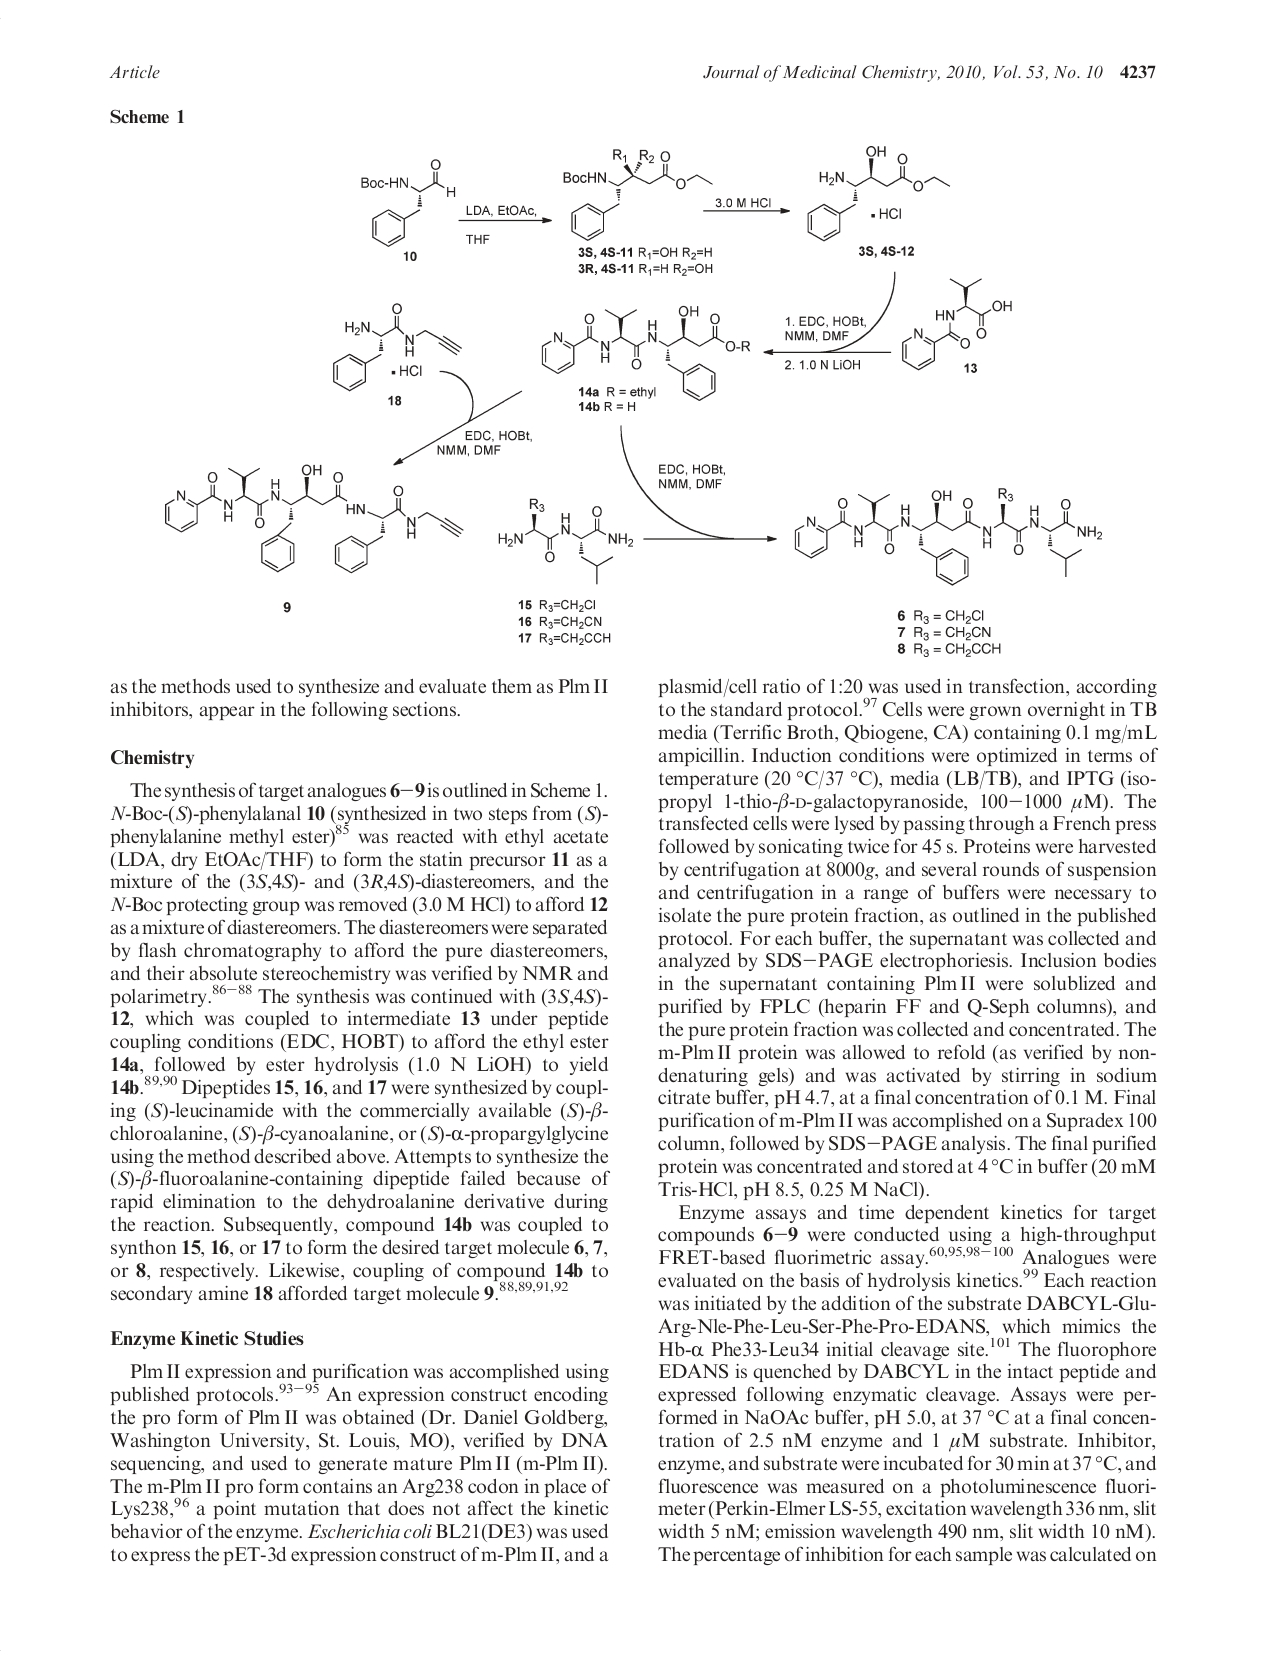exist_molecular: (160, 457, 467, 572), (793, 485, 1104, 586), (541, 298, 755, 404), (560, 144, 715, 243), (801, 144, 955, 243), (493, 495, 641, 589), (330, 295, 461, 391), (900, 273, 1020, 370), (360, 154, 457, 251)
